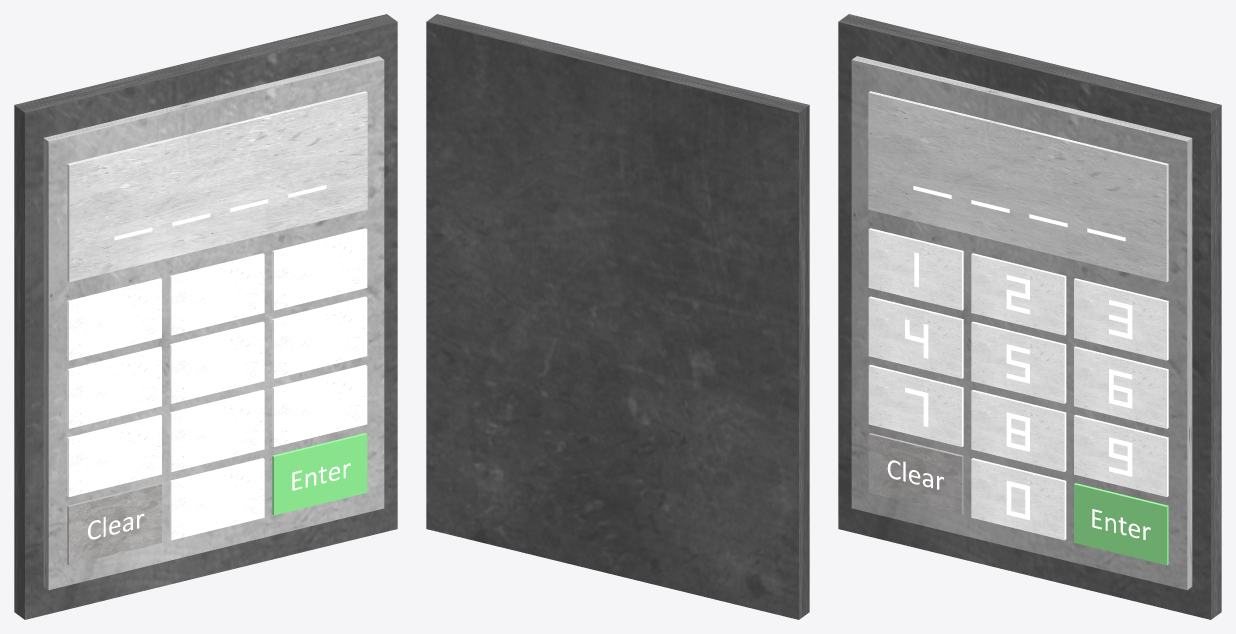
File: KeyPad0.glb
The picture shows the model from 3 angles, left to right: view 1: azimuth 30°, elevation 25°; view 2: azimuth 150°, elevation 25°; view 3: azimuth 330°, elevation 25°; orthographic projection.
Visible parts, largest first — view 1: Button, Panel_Sub, Panel_Main, Show, E, C, Number, Text; view 2: Panel_Main; view 3: Button, Panel_Sub, Panel_Main, Show, C, E, Number, Text.
Boxes of the visible parts, bbox=[...] form: Button: bbox=[67, 228, 367, 540]; Panel_Sub: bbox=[43, 56, 384, 590]; Panel_Main: bbox=[14, 14, 397, 619]; Show: bbox=[67, 91, 367, 282]; E: bbox=[272, 433, 367, 515]; C: bbox=[67, 483, 161, 565]; Number: bbox=[88, 249, 350, 539]; Text: bbox=[114, 185, 326, 240]; Panel_Main: bbox=[426, 14, 809, 619]; Button: bbox=[868, 228, 1168, 540]; Panel_Sub: bbox=[851, 56, 1192, 590]; Panel_Main: bbox=[838, 14, 1221, 619]; Show: bbox=[868, 91, 1168, 282]; C: bbox=[868, 433, 963, 515]; E: bbox=[1074, 483, 1168, 565]; Number: bbox=[887, 252, 1150, 539]; Text: bbox=[913, 186, 1125, 241].
Size of the model in its own units: 2 by 2.6 by 0.1654.
7 materials, 5 textured.
